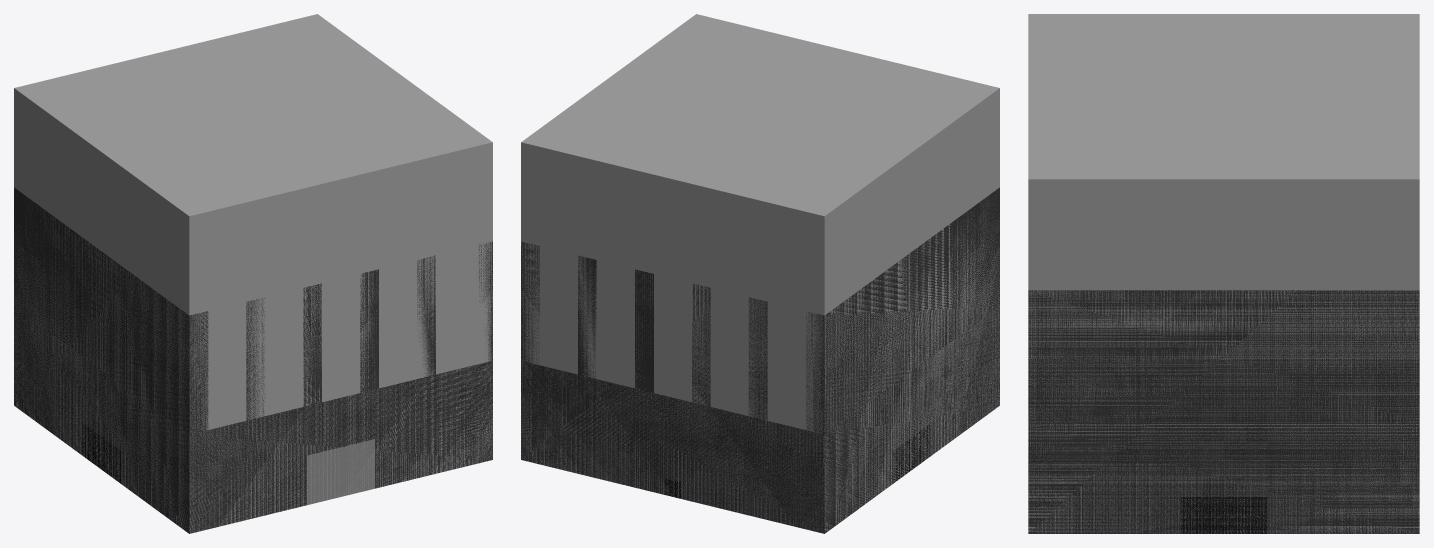
File: largerheostat.obj
The picture shows the model from 3 angles, left to right: view 1: azimuth 30°, elevation 25°; view 2: azimuth 150°, elevation 25°; view 3: azimuth 270°, elevation 25°; orthographic projection. The views are drawn at different scales.
Parts seen in each view (by area): view 1: Minecraft_Block_Cube, main; view 2: Minecraft_Block_Cube, main; view 3: Minecraft_Block_Cube, main.
Boxes of the visible parts, x1,y1,x2,y2 form: Minecraft_Block_Cube: (14,14,492,533); main: (14,187,492,533); Minecraft_Block_Cube: (521,14,999,533); main: (521,187,999,533); Minecraft_Block_Cube: (1028,14,1419,533); main: (1028,290,1419,533).
Size of the model in its own units: 1 by 1 by 1.
2 materials, 1 textured.
